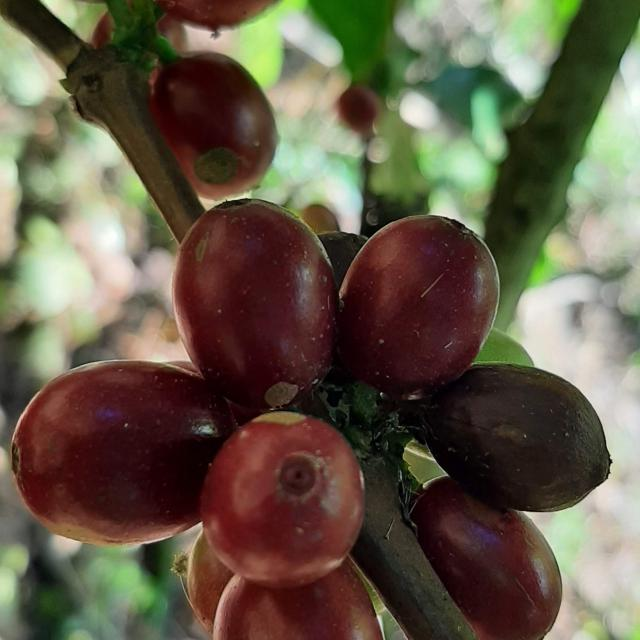green: (474, 328, 535, 367)
red: (10, 361, 235, 546), (172, 199, 338, 409), (338, 215, 500, 400), (200, 412, 364, 589), (426, 364, 612, 513), (412, 478, 563, 640), (149, 52, 277, 199), (213, 561, 383, 640), (170, 532, 233, 635), (318, 231, 368, 290)
